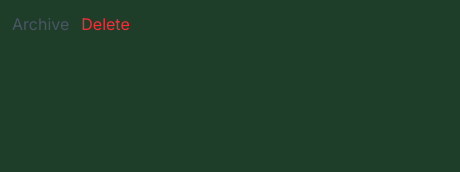
Test case: EventActions › shows an error and does not proceed when delete is blocked
Click the button "Delete" at (106, 24), box [81,12,130,36]
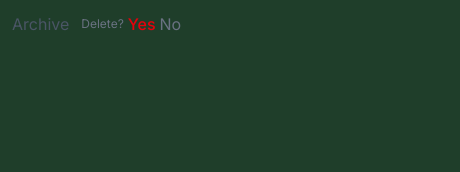
Click the button "Yes" at (142, 24), box [128,12,156,36]
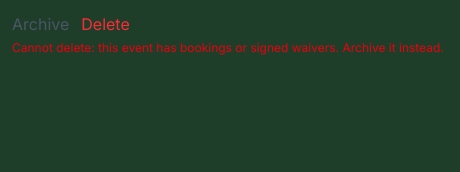
Check: the text "Archive it instead" is shown, box [12,40,444,55]
